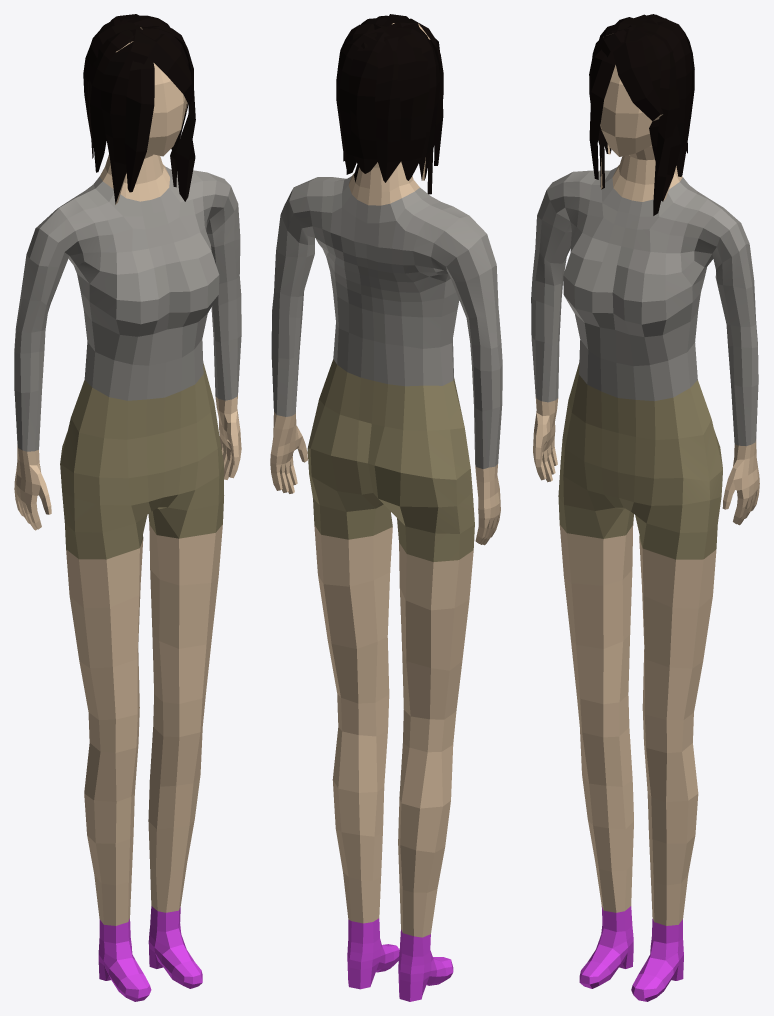
The model's file is chara still 2.fbx.
3 views of the same model, side by side, from view 1: azimuth 30°, elevation 25°; view 2: azimuth 150°, elevation 25°; view 3: azimuth 330°, elevation 25° (orthographic).
Visible parts, largest first — view 1: Object_66.001; view 2: Object_66.001; view 3: Object_66.001.
Part boxes in pixels (x1,y1,x2,y2): Object_66.001: (14, 14, 241, 1001); Object_66.001: (270, 14, 502, 1001); Object_66.001: (531, 14, 759, 1001).
Bounding box in the file's own units: 81.26 × 329 × 40.57.
